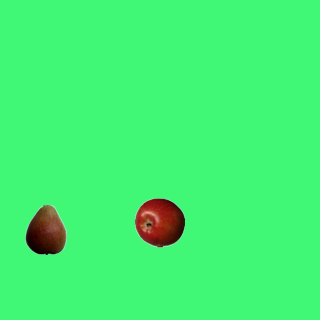Apple Braeburn: (134, 197, 184, 247)
Pear Forelle: (20, 204, 70, 254)
